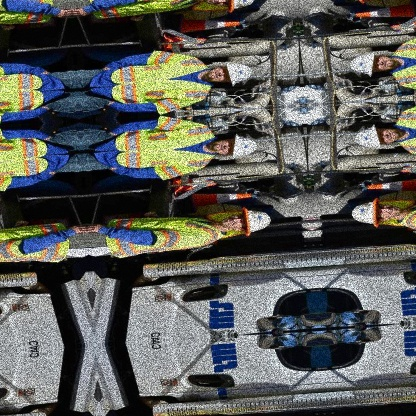vest: (113, 112, 220, 185), (104, 210, 228, 261)
white: (244, 203, 275, 238), (227, 131, 260, 162)
